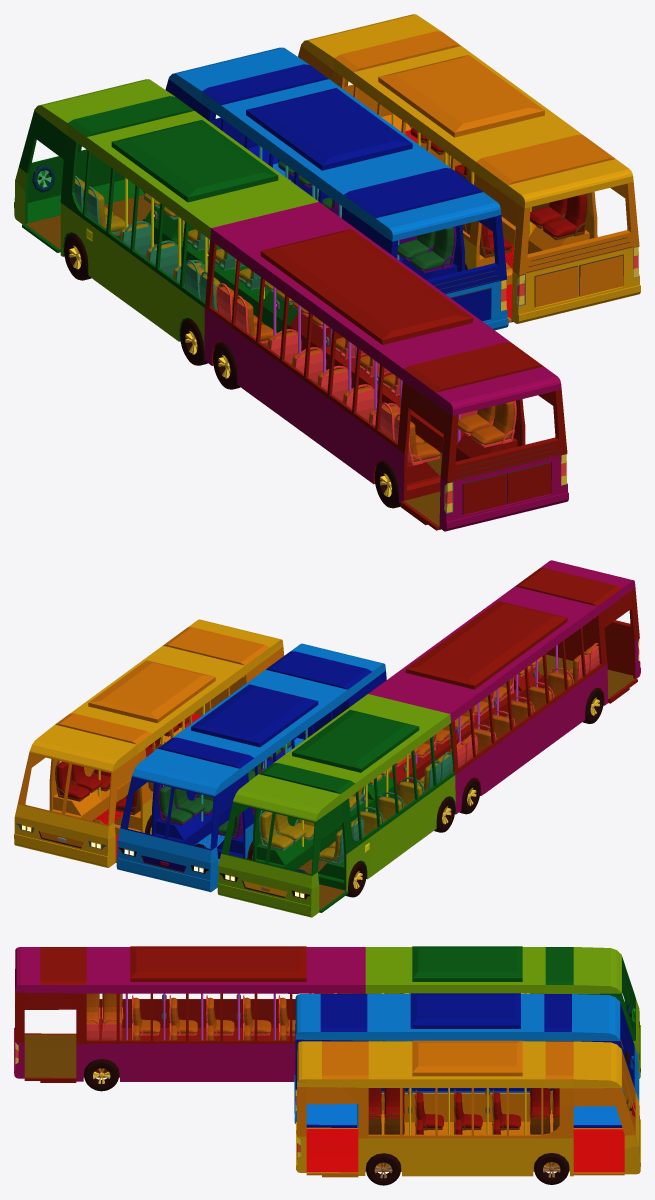
The model's file is Bus sollte kein test sein.fbx.
3 views of the same model, one above another, from view 1: azimuth 30°, elevation 25°; view 2: azimuth 150°, elevation 25°; view 3: azimuth 270°, elevation 25° (orthographic). The views are drawn at different scales.
Visible parts, largest first — view 1: Bus 3/4, Bus 1, Bus 2, Boden 3/4.001; view 2: Bus 3/4, Bus 1, Bus 2, Boden 3/4.001; view 3: Bus 3/4, Bus 1, Bus 2, Boden 1, Boden 3/4.001, Boden 2.
Boxes of the visible parts, x1,y1,x2,y2 form: Bus 3/4: (14,79,568,531); Bus 1: (298,14,640,323); Bus 2: (165,47,508,330); Boden 3/4.001: (25,195,442,526); Bus 3/4: (217,560,640,917); Bus 1: (14,619,284,867); Bus 2: (116,643,386,892); Boden 3/4.001: (296,654,634,910); Bus 3/4: (14,946,640,1091); Bus 1: (296,1040,640,1185); Bus 2: (294,993,639,1127); Boden 1: (306,1129,624,1172); Boden 3/4.001: (24,1034,623,1077); Boden 2: (306,1087,623,1124).
Size of the model in its own units: 369 by 136 by 700.
